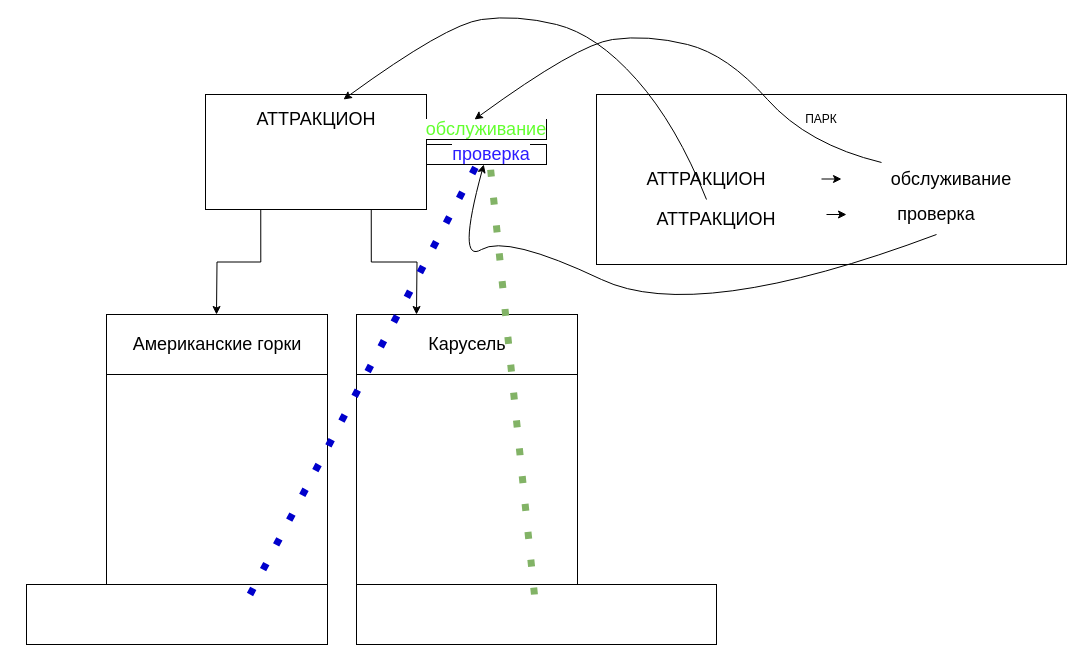
The diagram is 1084 pixels wide and 662 high, and some of its shapes have lost their labels. The box of each missing label's shape, as (x1, y1, x2, y2) in pixels:
Регулярная проерка безопасности: (26, 584, 328, 644)
Частое техническое обслуживание: (356, 584, 716, 644)
